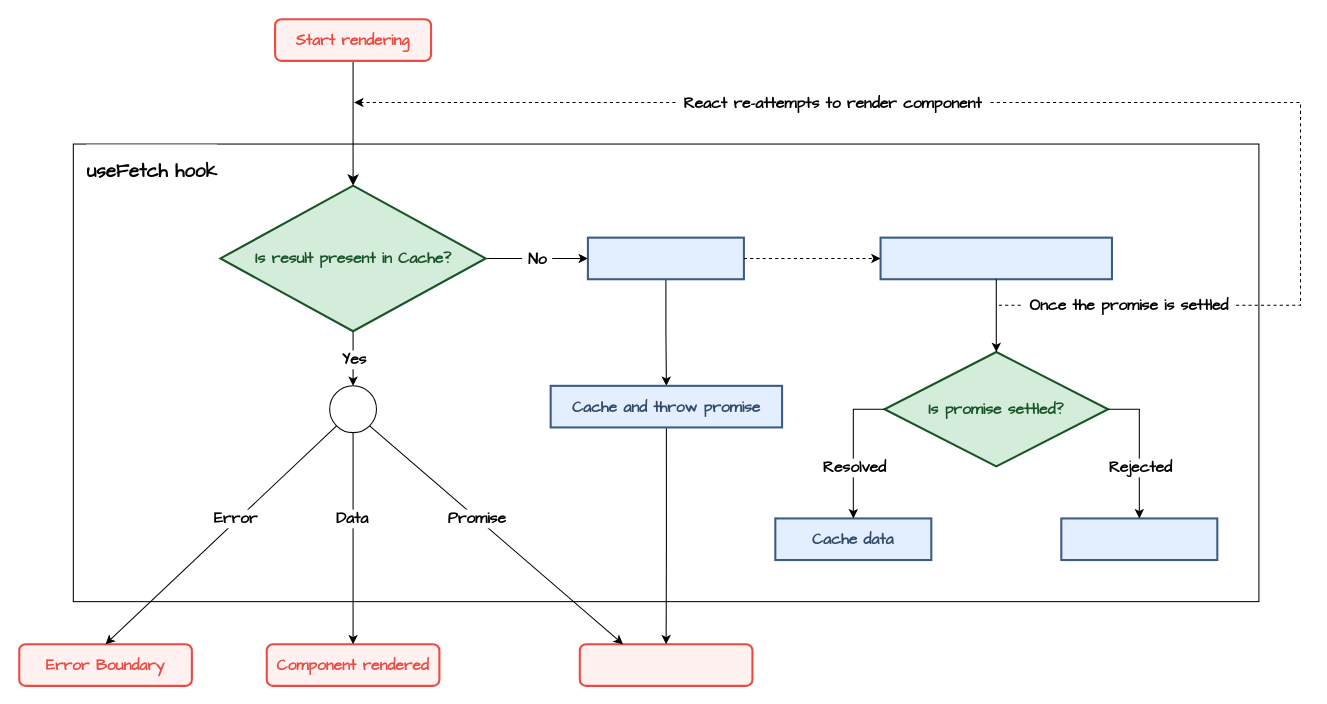
Some shapes in this 1327 by 704 pixel diagram are drawn without their labels. Each missing label, with the centre of its shape:
Cache error: [1139,539]
Make fetch call: [665,258]
Register promise callbacks: [995,258]
Suspense fallback: [665,664]
